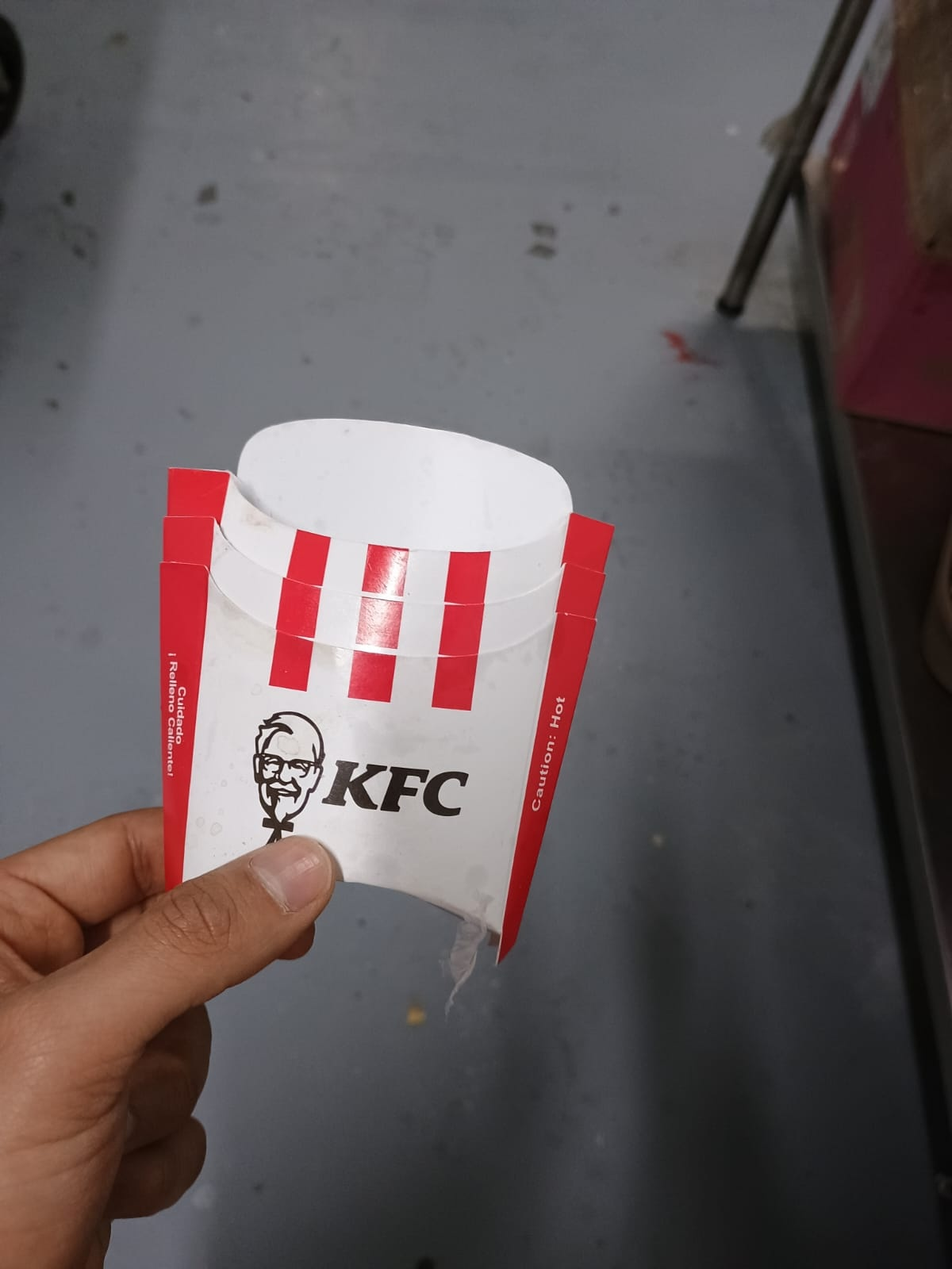Carton: (159, 419, 613, 959)
